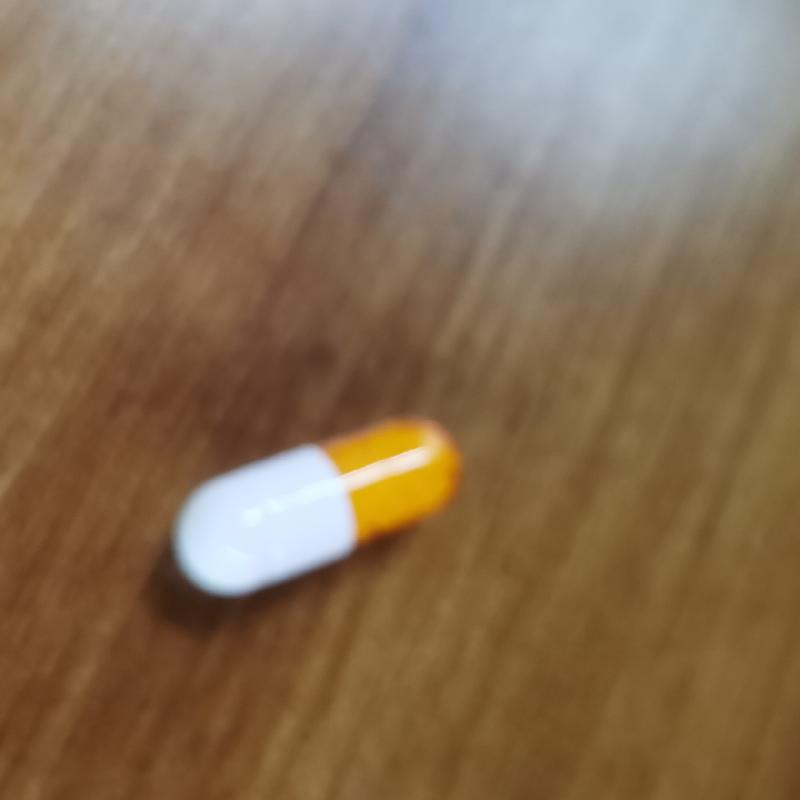pills: (169, 408, 468, 620)
